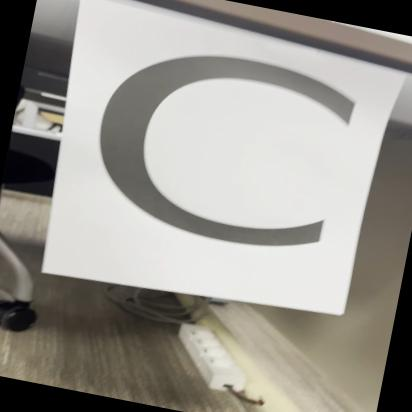seat: (34, 1, 390, 306)
